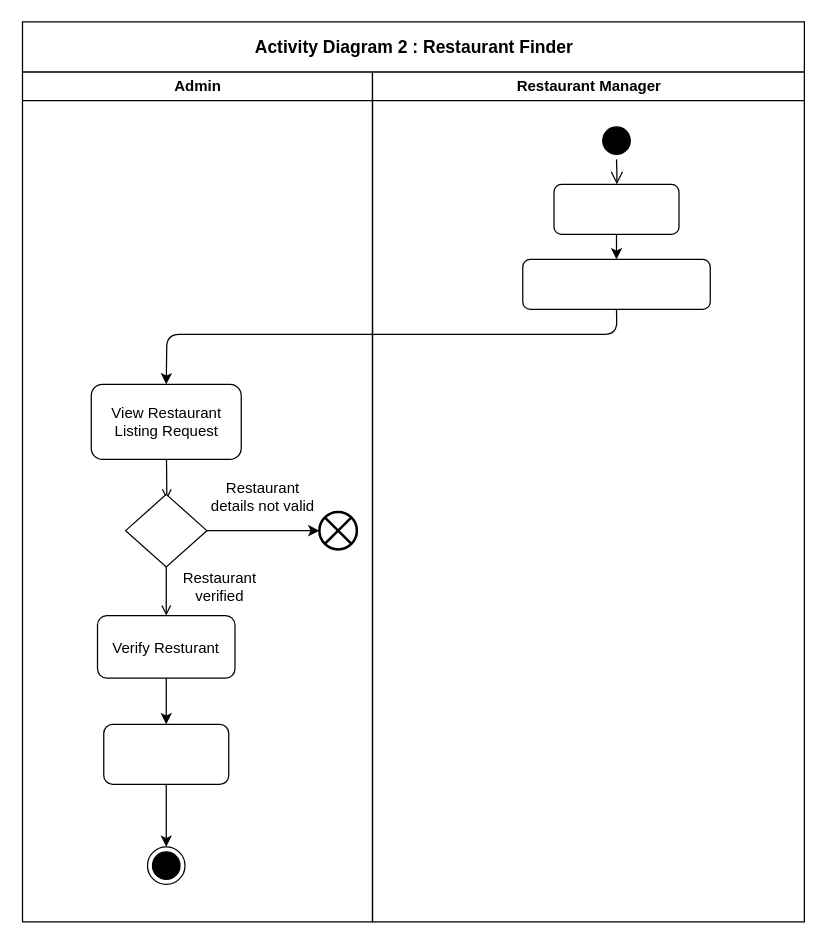
Image size: 826x944. Some labels were removed from this diagram. The centre of each missing label's shape, as x and y in pixels:
"Add Restaurant to database" belongs at point 165,753.
"Create Account" belongs at point 616,208.
"Submit new Restaurant Listing Request" belongs at point 616,283.
